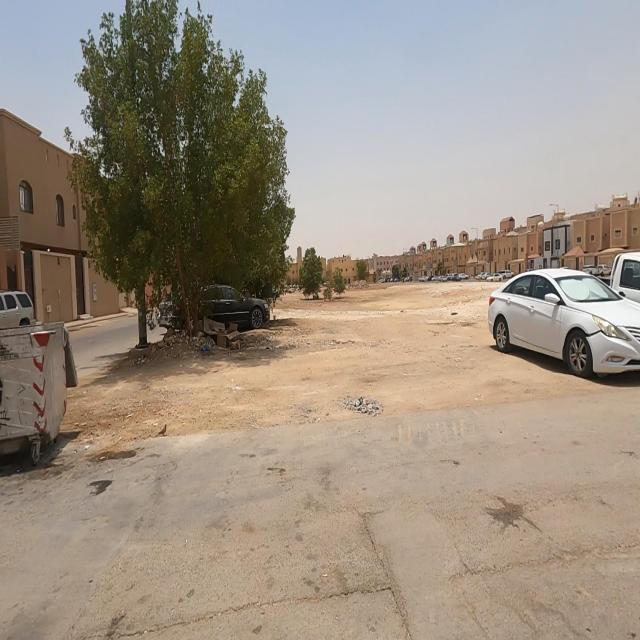debris: (168, 290, 276, 389), (326, 368, 400, 439)
